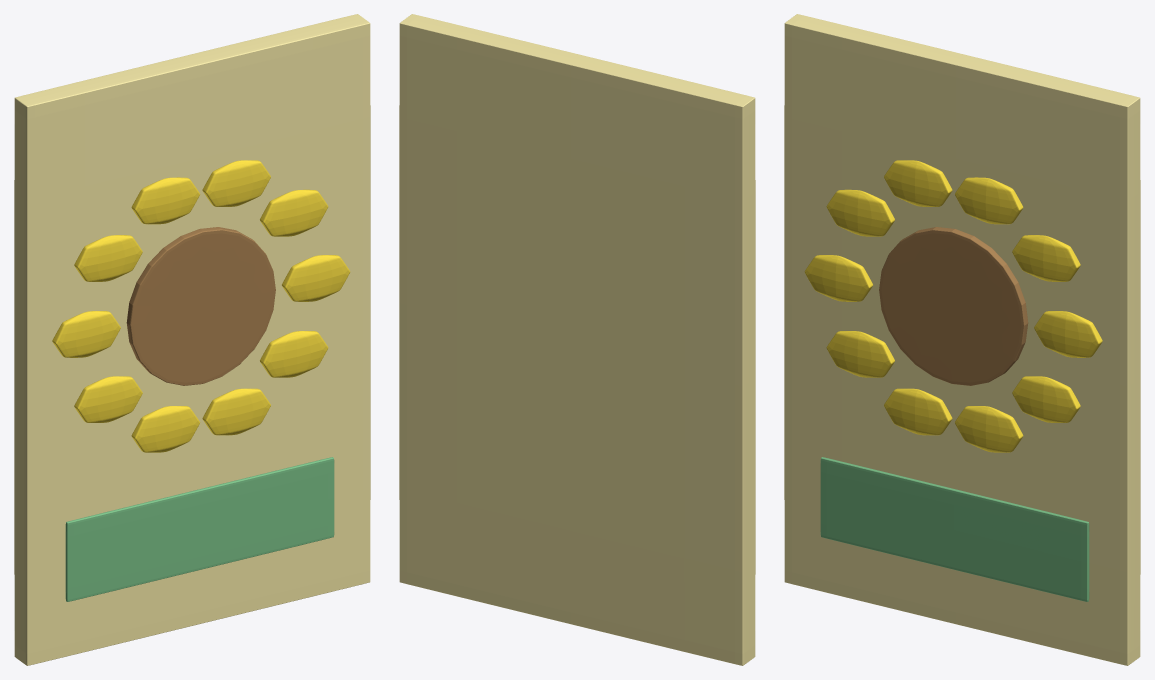
Rendered from seed_packet.glb.
The picture shows the model from 3 angles, left to right: view 1: azimuth 30°, elevation 25°; view 2: azimuth 150°, elevation 25°; view 3: azimuth 330°, elevation 25°; orthographic projection.
Visible parts, largest first — view 1: seed_packet; view 2: seed_packet; view 3: seed_packet.
Boxes of the visible parts, x1,y1,x2,y2 form: seed_packet: (14, 14, 370, 665); seed_packet: (399, 14, 755, 665); seed_packet: (784, 14, 1140, 665).
Bounding box in the file's own units: 0.45 × 0.7 × 0.0426.
